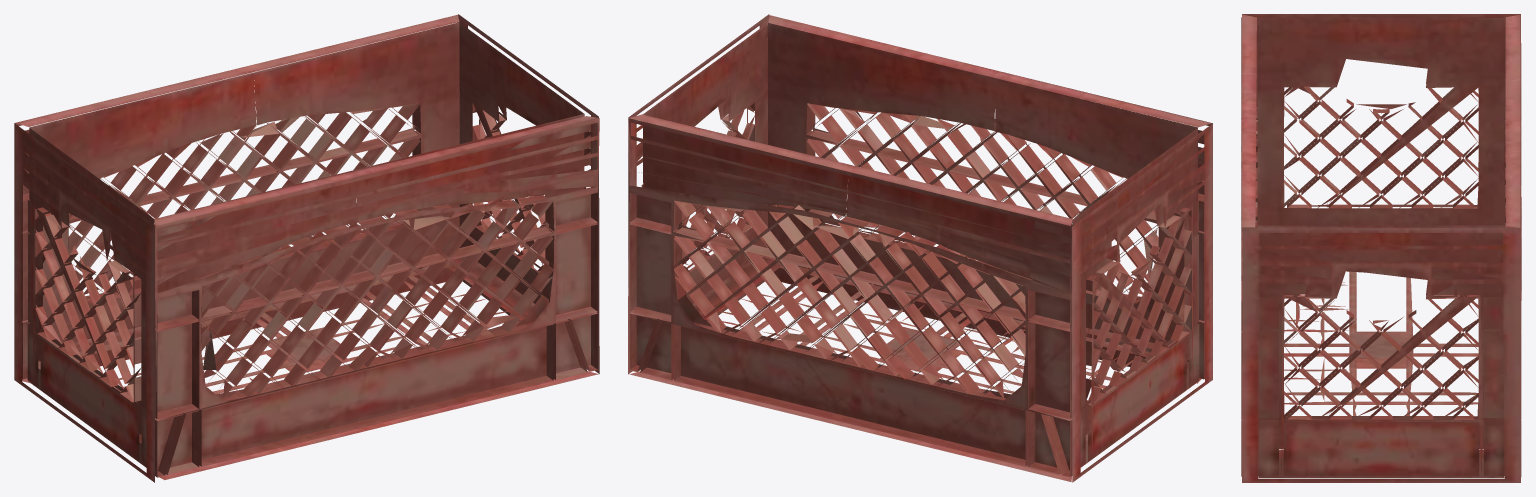
File: crate_plastic_red.glb
The picture shows the model from 3 angles, left to right: view 1: azimuth 30°, elevation 25°; view 2: azimuth 150°, elevation 25°; view 3: azimuth 270°, elevation 25°; orthographic projection.
Parts seen in each view (by area): view 1: crate_plastic_red; view 2: crate_plastic_red; view 3: crate_plastic_red.
Part boxes in pixels (x1,y1,x2,y2): crate_plastic_red: (14,14,599,482); crate_plastic_red: (628,14,1212,482); crate_plastic_red: (1241,14,1521,482).
Size of the model in its own units: 0.4811 by 0.2666 by 0.2653.
Materials: 1 (1 with a texture image).
